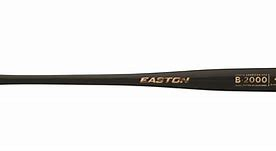bat: (1, 66, 276, 94)
